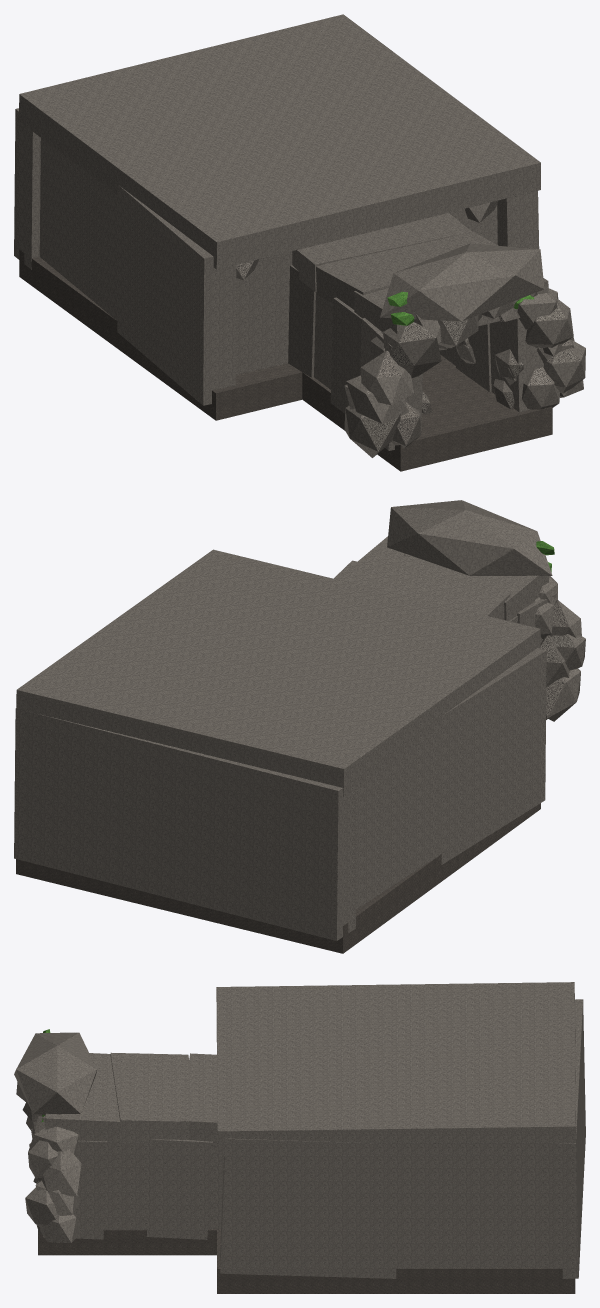
The model's file is cave_den_stone.glb.
3 views of the same model, one above another, from view 1: azimuth 30°, elevation 25°; view 2: azimuth 150°, elevation 25°; view 3: azimuth 270°, elevation 25° (orthographic). The views are drawn at different scales.
Visible parts, largest first — view 1: Body; view 2: Body; view 3: Body.
Part boxes in pixels (box(x1,y1,x2,y2)): Body: box(14, 14, 585, 471); Body: box(14, 500, 585, 953); Body: box(14, 982, 585, 1293).
Bounding box in the file's own units: 12.79 × 7.04 × 20.75.
Materials: 4 (3 with a texture image).
